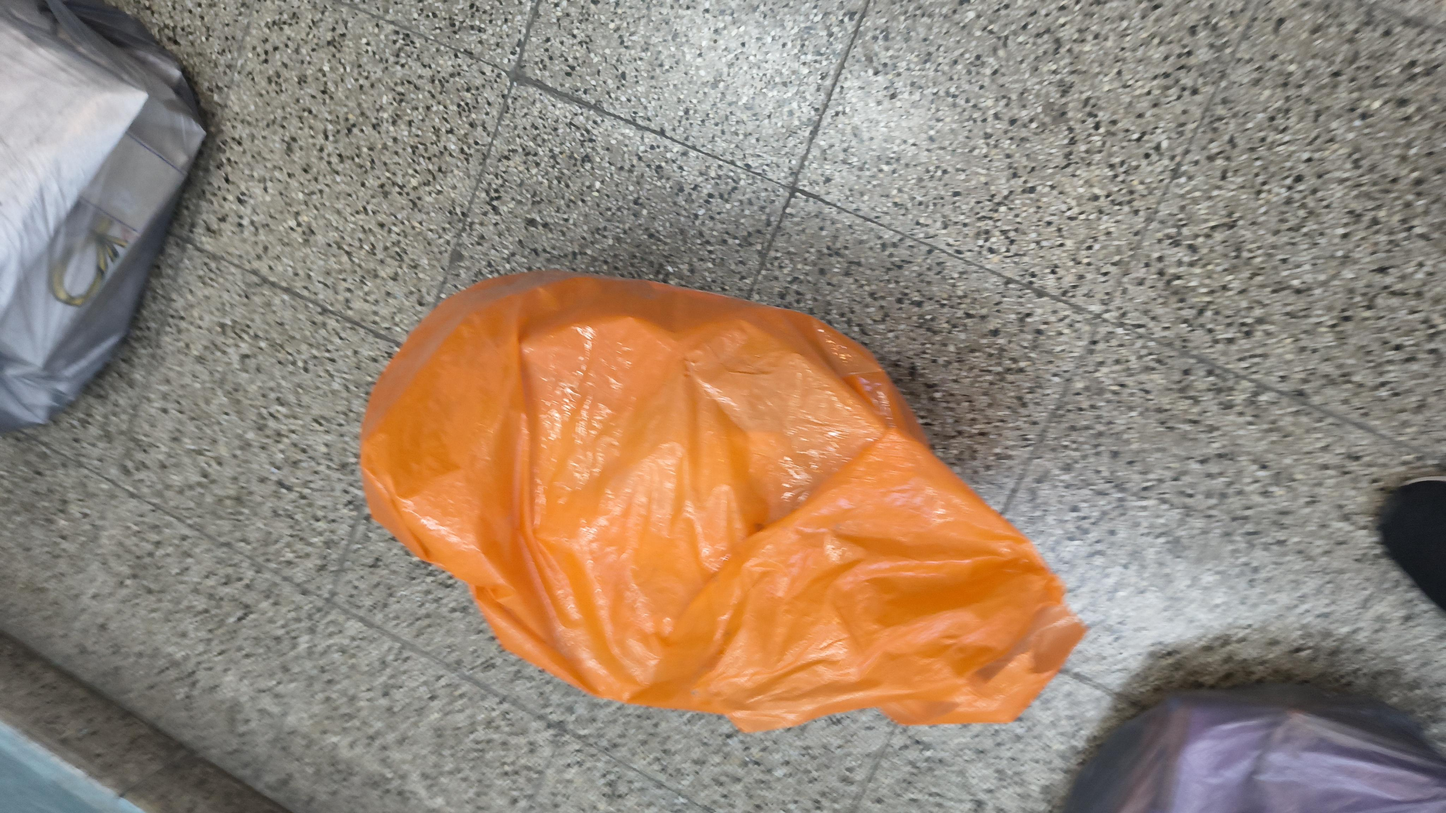Garbage: (355, 25, 1114, 618), (1223, 365, 1444, 812)
